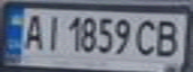1: (63, 12, 84, 52)
5: (96, 15, 115, 54)
8: (78, 14, 100, 53)
9: (112, 16, 136, 56)
A: (18, 11, 48, 51)
B: (151, 17, 187, 59)
C: (133, 16, 163, 57)
I: (39, 11, 63, 52)
